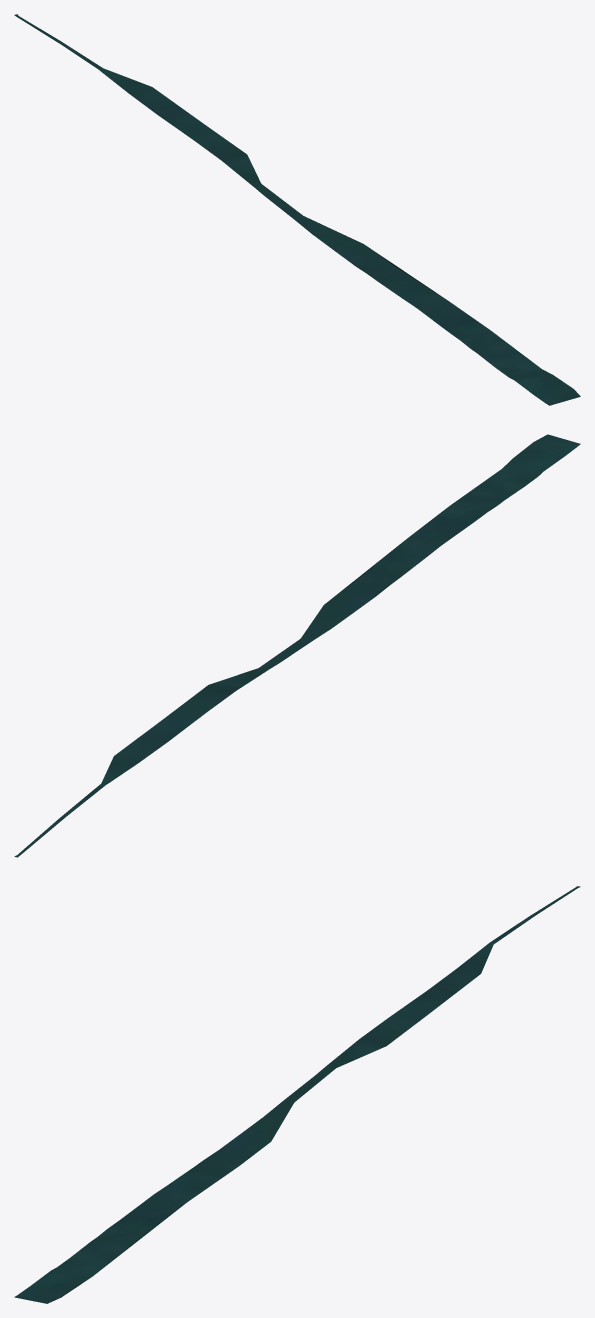
The picture shows the model from 3 angles, top to bottom: view 1: azimuth 30°, elevation 25°; view 2: azimuth 150°, elevation 25°; view 3: azimuth 330°, elevation 25°; orthographic projection. The views are drawn at different scales.
Bounding box in the file's own units: 1.96 × 0.4875 × 52.22.
1 material, 1 textured.
